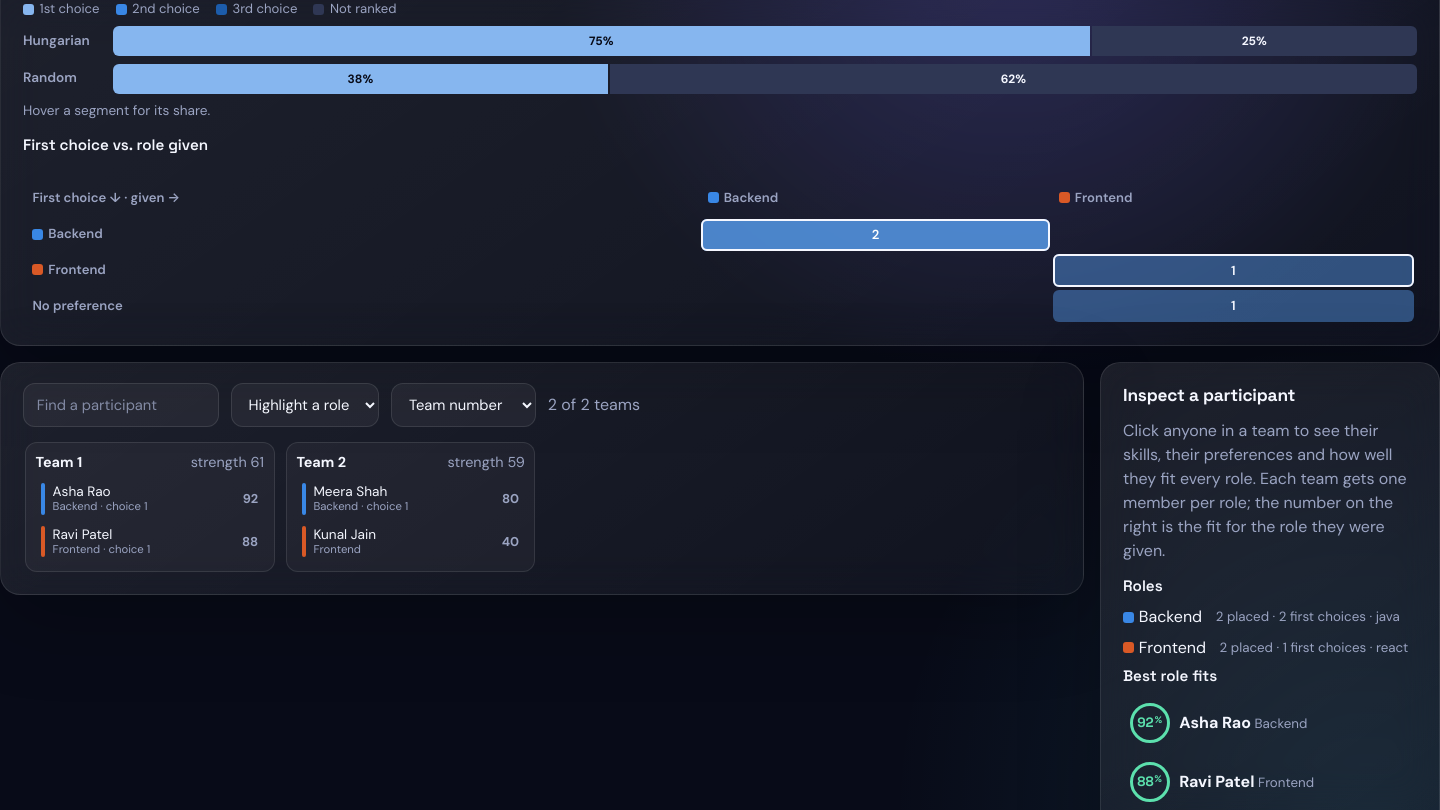
Test case: TeamSynthesisPage › filters teams by participant name
The width and height of the screenshot is (1440, 810).
(page scrolled)
Type "meera" into the search field labelled "Find a participant" at (121, 405), box x1=23 y1=383 x2=219 y2=427
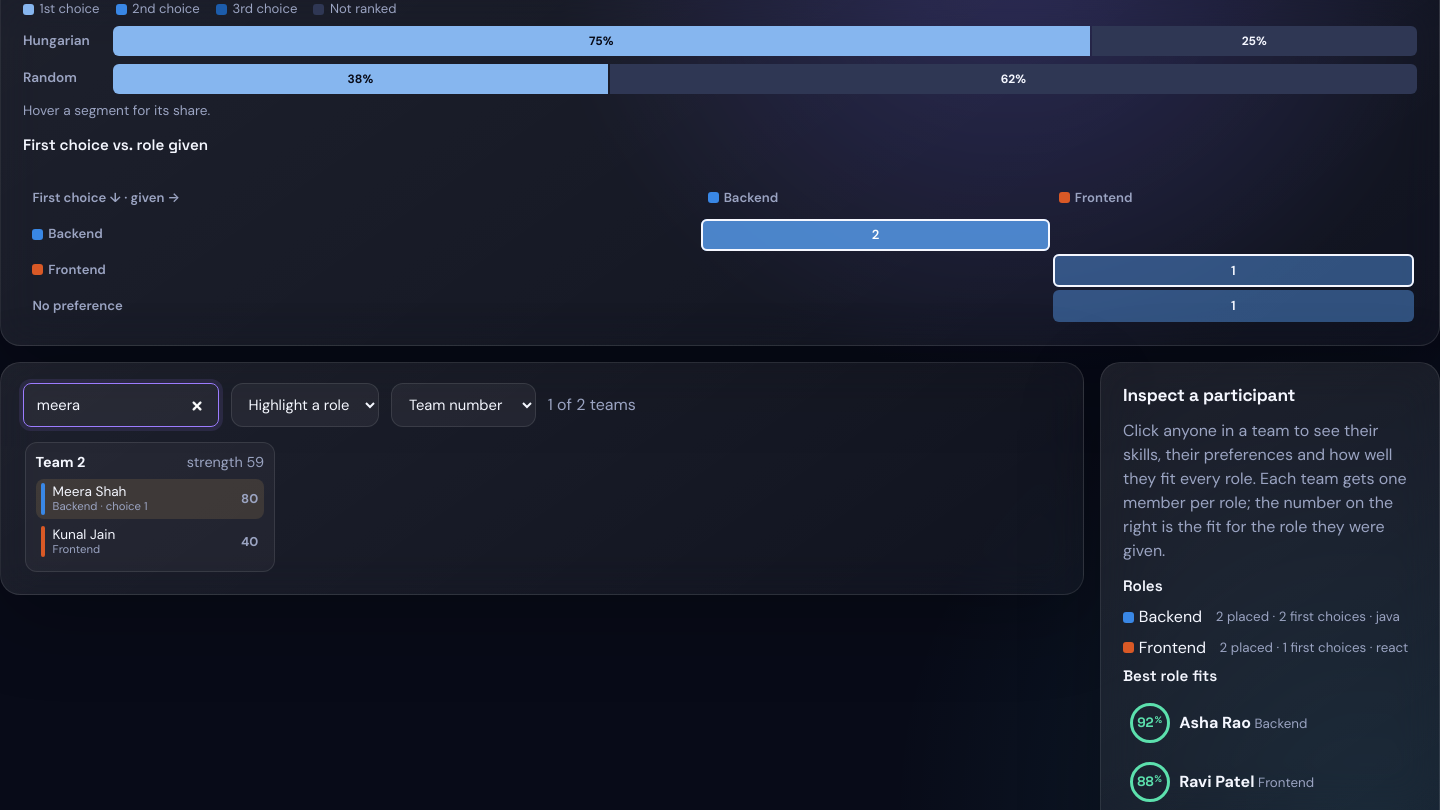
Expected: the text "Team 2" is shown, x1=36 y1=452 x2=85 y2=474
Expected: the text "Team 1" is gone
Expected: the text "1 of 2 teams" is shown, x1=548 y1=393 x2=636 y2=417
